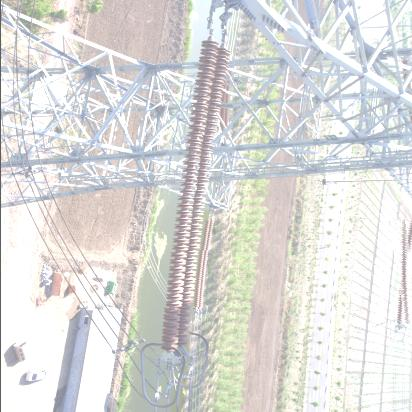insulator: (160, 30, 232, 358), (393, 220, 412, 325)
